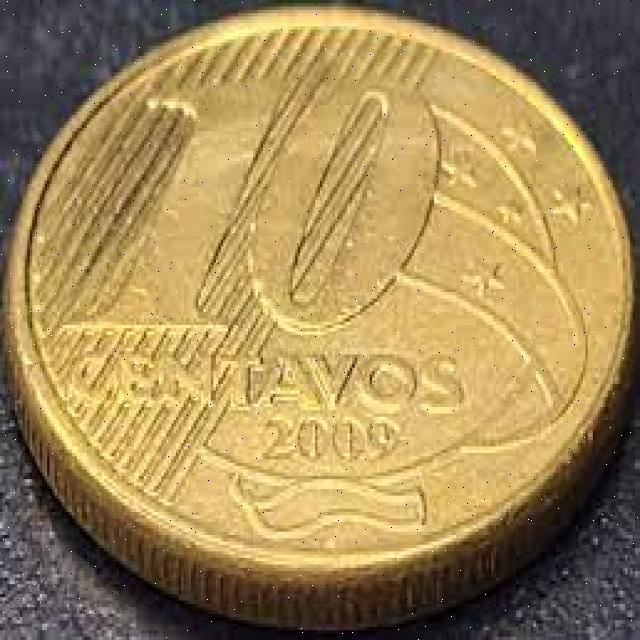10 cent: (24, 11, 628, 614)
